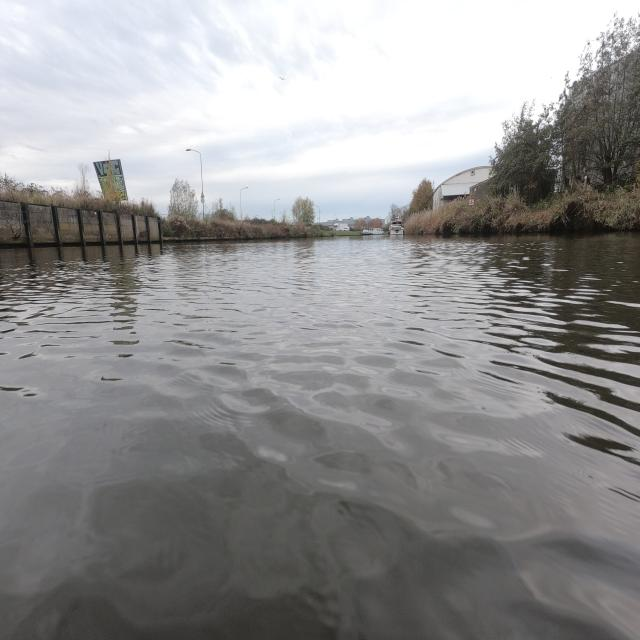reed: (398, 184, 638, 234), (163, 211, 312, 239)
sky: (1, 2, 637, 217)
tree: (486, 7, 638, 202)
wall: (1, 198, 151, 245)
water: (1, 232, 638, 639)
